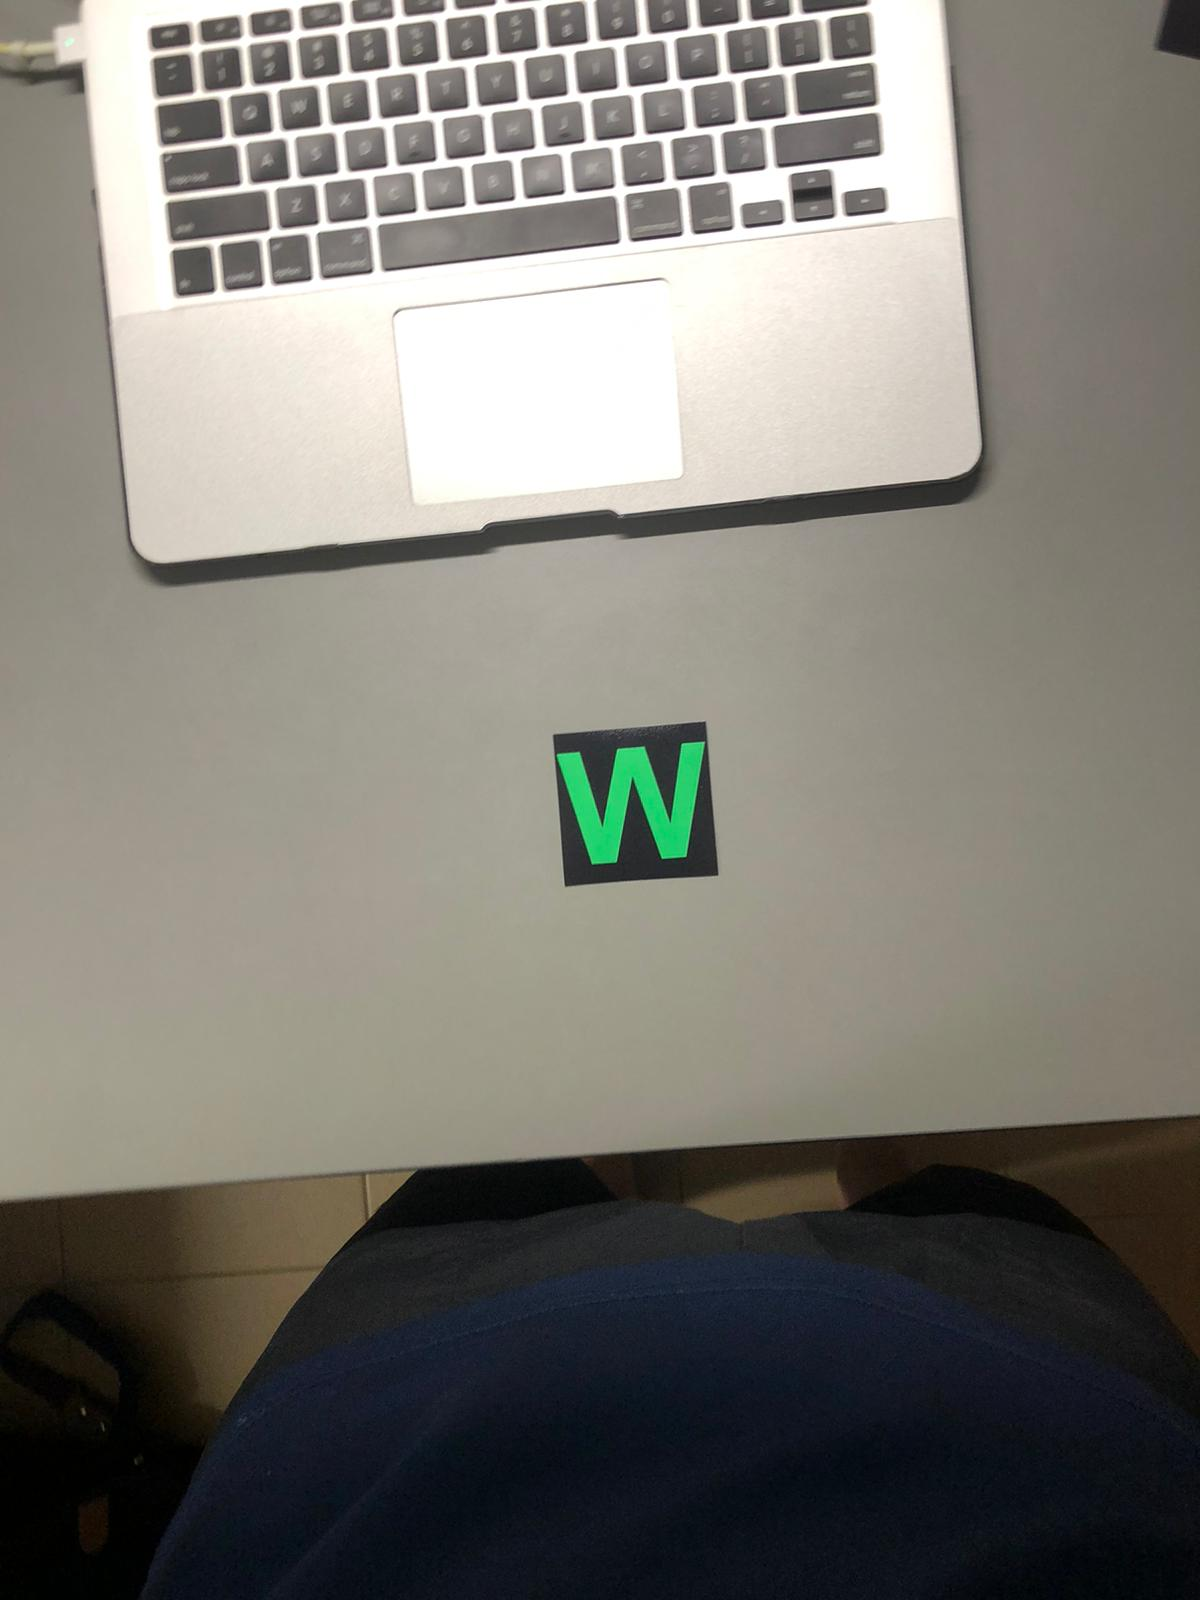W: (546, 736, 718, 891)
